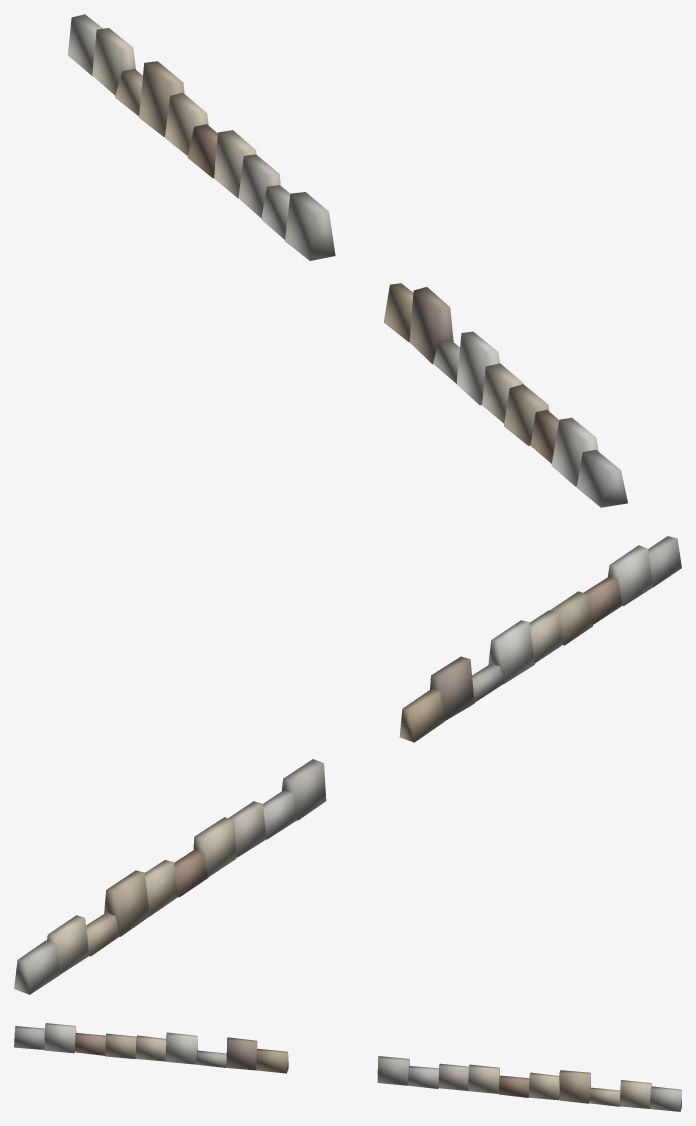
Rendered from farm_-31_-33_far.glb.
The picture shows the model from 3 angles, top to bottom: view 1: azimuth 30°, elevation 25°; view 2: azimuth 150°, elevation 25°; view 3: azimuth 270°, elevation 25°; orthographic projection. The views are drawn at different scales.
Parts seen in each view (by area): view 1: geometry_0; view 2: geometry_0; view 3: geometry_0.
Boxes of the visible parts, x1,y1,x2,y2 form: geometry_0: [68, 14, 627, 507]; geometry_0: [14, 536, 681, 994]; geometry_0: [14, 1023, 681, 1111].
Size of the model in its own units: 4.47 by 3.08 by 33.75.
